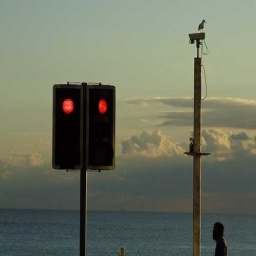traffic light: (52, 83, 84, 170), (85, 84, 116, 170)
